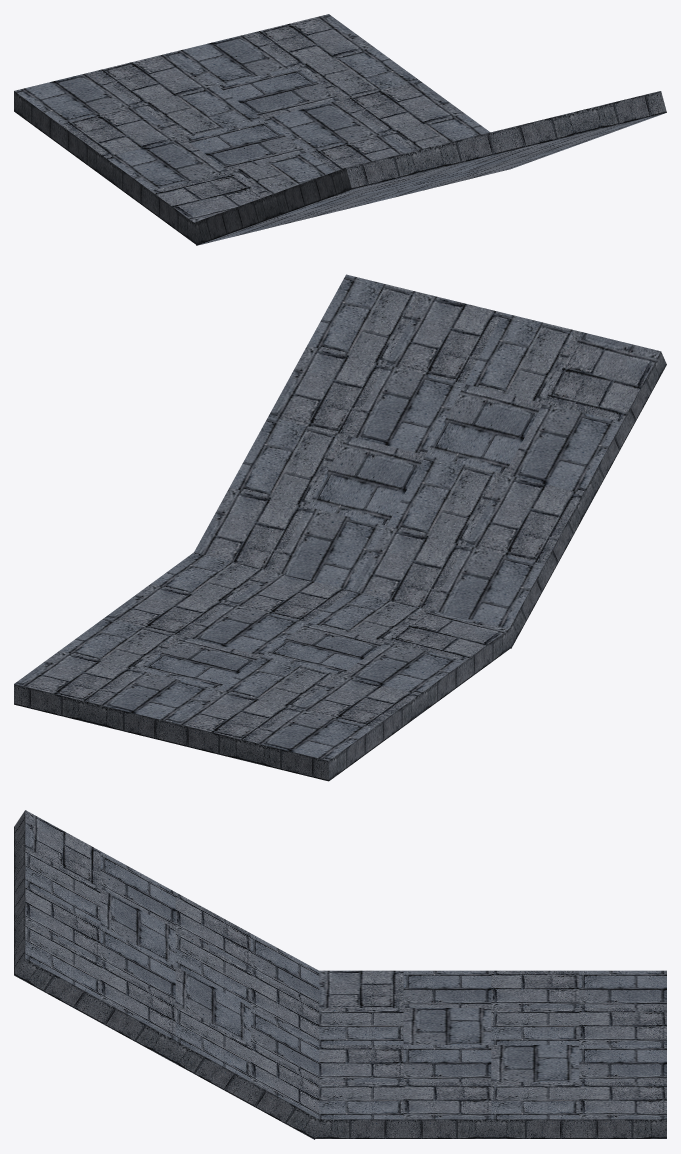
The model's file is SlopeBlock.FBX.
The picture shows the model from 3 angles, top to bottom: view 1: azimuth 30°, elevation 25°; view 2: azimuth 150°, elevation 25°; view 3: azimuth 270°, elevation 25°; orthographic projection. The views are drawn at different scales.
Parts seen in each view (by area): view 1: BB_16x16x1; view 2: BB_16x16x1; view 3: BB_16x16x1.
Part boxes in pixels (x1,y1,x2,y2): BB_16x16x1: (14, 14, 666, 245); BB_16x16x1: (14, 274, 666, 781); BB_16x16x1: (14, 810, 666, 1139).
Size of the model in its own units: 1600 by 912 by 2974.
